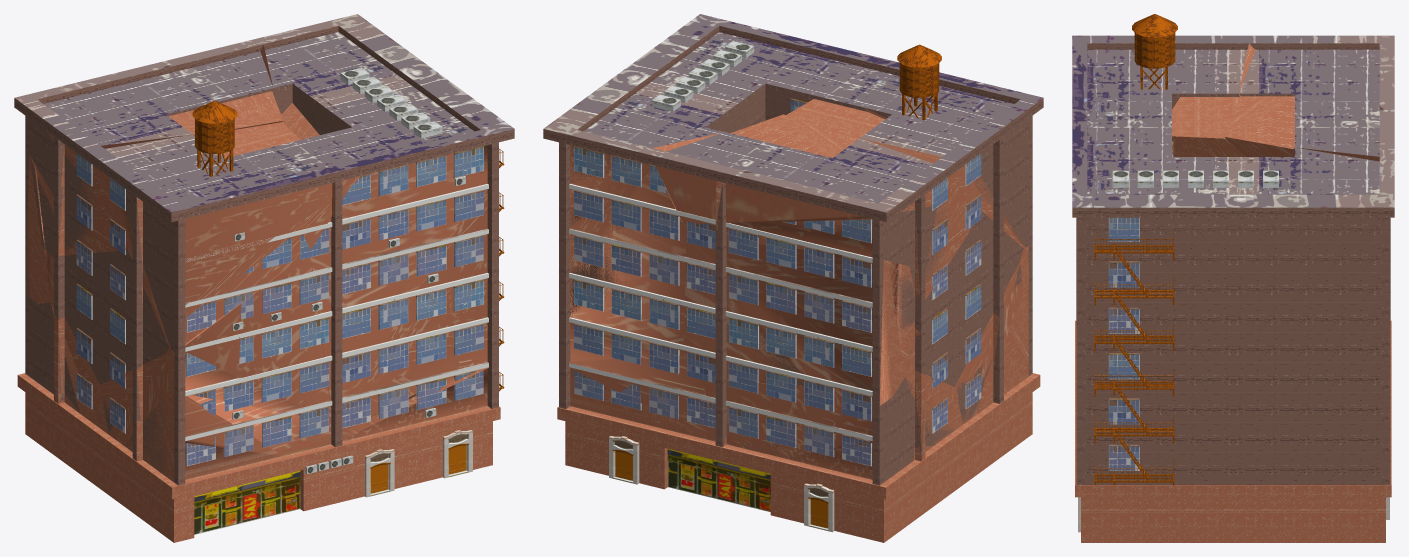
Rendered from A11_Destr.FBX.
The picture shows the model from 3 angles, left to right: view 1: azimuth 30°, elevation 25°; view 2: azimuth 150°, elevation 25°; view 3: azimuth 270°, elevation 25°; orthographic projection. The views are drawn at different scales.
Visible parts, largest first — view 1: K_Building_A11_00_Part_11, K_Building_A11_00_Part_8, K_Building_A11_00_Part_3, K_Building_A11_00_Part_18, K_Building_A11_00_Part_7, K_Building_A11_00_Part_15, K_Building_A11_00_Part_10, K_Building_A11_00_Part_1, K_Building_A11_00_Part_20, K_Building_A11_00_Part_12, K_Building_A11_00_Part_16, K_Building_A11_00_Part_4 (+3 smaller); view 2: K_Building_A11_00_Part_3, K_Building_A11_00_Part_7, K_Building_A11_00_Part_9, K_Building_A11_00_Part_19, K_Building_A11_00_Part_8, K_Building_A11_00_Part_4, K_Building_A11_00_Part_16, K_Building_A11_00_Part_1, K_Building_A11_00_Part_20, K_Building_A11_00_Part_14, K_Building_A11_00_Part_13, K_Building_A11_00_Part_15 (+2 smaller); view 3: K_Building_A11_00_Part_3, K_Building_A11_00_Part_2, K_Building_A11_00_Part_7, K_Building_A11_00_Part_8, K_Building_A11_00_Part_19, K_Building_A11_00_Part_11, K_Building_A11_00_Part_20, K_Building_A11_00_Part_10.
Boxes of the visible parts, x1=… form: K_Building_A11_00_Part_11: x1=310, y1=138, x2=504, y2=431; K_Building_A11_00_Part_8: x1=100, y1=101, x2=371, y2=355; K_Building_A11_00_Part_3: x1=261, y1=14, x2=514, y2=207; K_Building_A11_00_Part_18: x1=166, y1=251, x2=335, y2=460; K_Building_A11_00_Part_7: x1=14, y1=37, x2=283, y2=195; K_Building_A11_00_Part_15: x1=109, y1=389, x2=297, y2=542; K_Building_A11_00_Part_10: x1=347, y1=358, x2=500, y2=498; K_Building_A11_00_Part_1: x1=54, y1=250, x2=168, y2=384; K_Building_A11_00_Part_20: x1=54, y1=122, x2=310, y2=255; K_Building_A11_00_Part_12: x1=275, y1=426, x2=357, y2=514; K_Building_A11_00_Part_16: x1=38, y1=302, x2=110, y2=456; K_Building_A11_00_Part_4: x1=17, y1=294, x2=56, y2=454; K_Building_A11_00_Part_3: x1=543, y1=14, x2=825, y2=354; K_Building_A11_00_Part_7: x1=640, y1=114, x2=955, y2=266; K_Building_A11_00_Part_9: x1=685, y1=224, x2=924, y2=405; K_Building_A11_00_Part_19: x1=557, y1=313, x2=729, y2=501; K_Building_A11_00_Part_8: x1=822, y1=44, x2=1043, y2=248; K_Building_A11_00_Part_4: x1=762, y1=397, x2=922, y2=542; K_Building_A11_00_Part_16: x1=700, y1=370, x2=972, y2=448; K_Building_A11_00_Part_1: x1=915, y1=211, x2=1023, y2=386; K_Building_A11_00_Part_20: x1=786, y1=90, x2=982, y2=311; K_Building_A11_00_Part_14: x1=682, y1=235, x2=915, y2=386; K_Building_A11_00_Part_13: x1=717, y1=436, x2=970, y2=521; K_Building_A11_00_Part_15: x1=969, y1=277, x2=1040, y2=478; K_Building_A11_00_Part_3: x1=1072, y1=132, x2=1394, y2=435; K_Building_A11_00_Part_2: x1=1092, y1=394, x2=1316, y2=542; K_Building_A11_00_Part_7: x1=1224, y1=35, x2=1394, y2=161; K_Building_A11_00_Part_8: x1=1072, y1=14, x2=1217, y2=140; K_Building_A11_00_Part_19: x1=1291, y1=388, x2=1391, y2=542; K_Building_A11_00_Part_11: x1=1072, y1=136, x2=1142, y2=434; K_Building_A11_00_Part_20: x1=1156, y1=35, x2=1251, y2=156; K_Building_A11_00_Part_10: x1=1075, y1=409, x2=1106, y2=542.
Size of the model in its own units: 2658 by 2928 by 2101.
